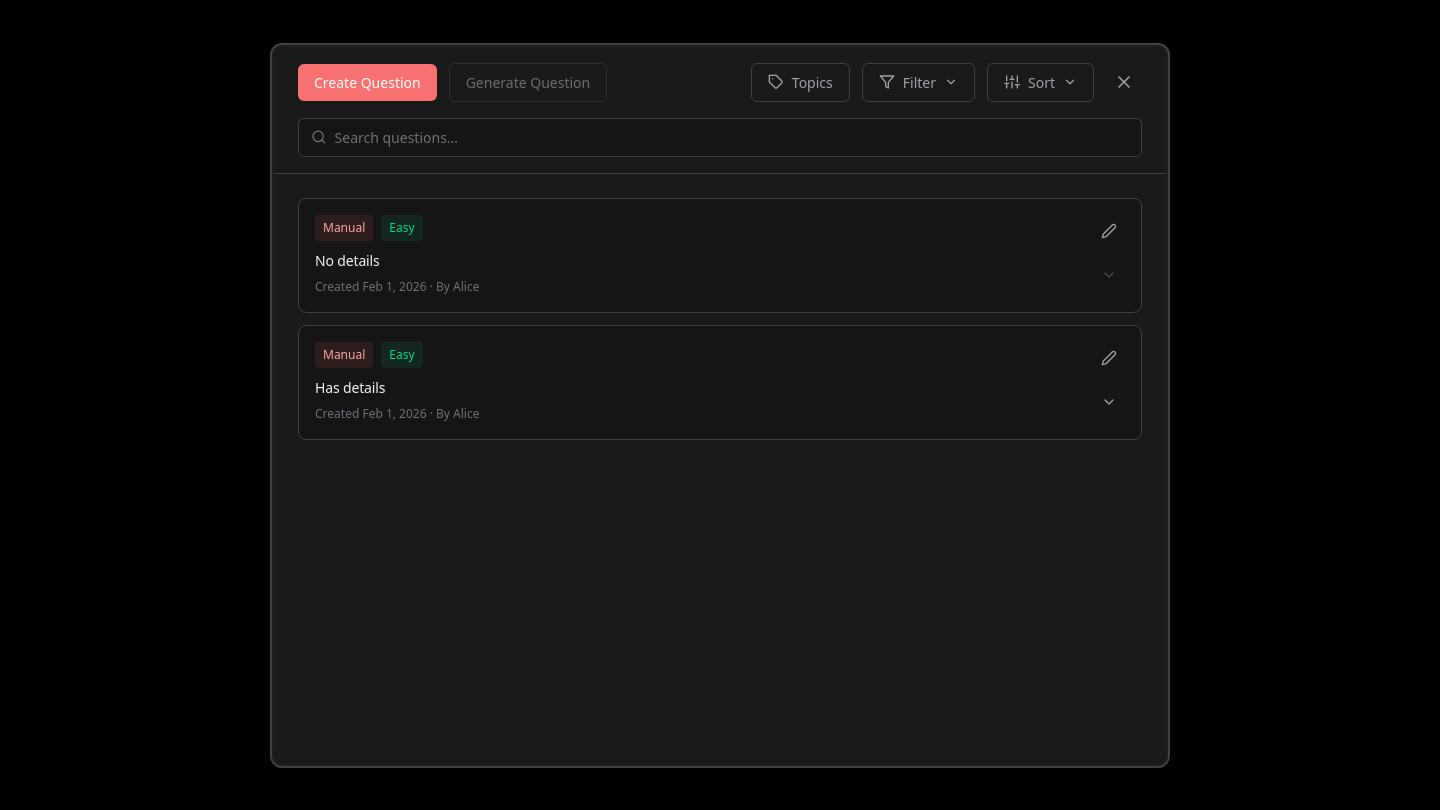
it: ManageQuestionsModal › Expand button is disabled when a question has no choices; enabled when it has choices
Expected: the button named "Expand" in the row of "No details" is disabled, x1=1093 y1=258 x2=1125 y2=290
Click the button named "Expand" in the row of "Has details" at (1109, 402), box x1=1093 y1=386 x2=1125 y2=418
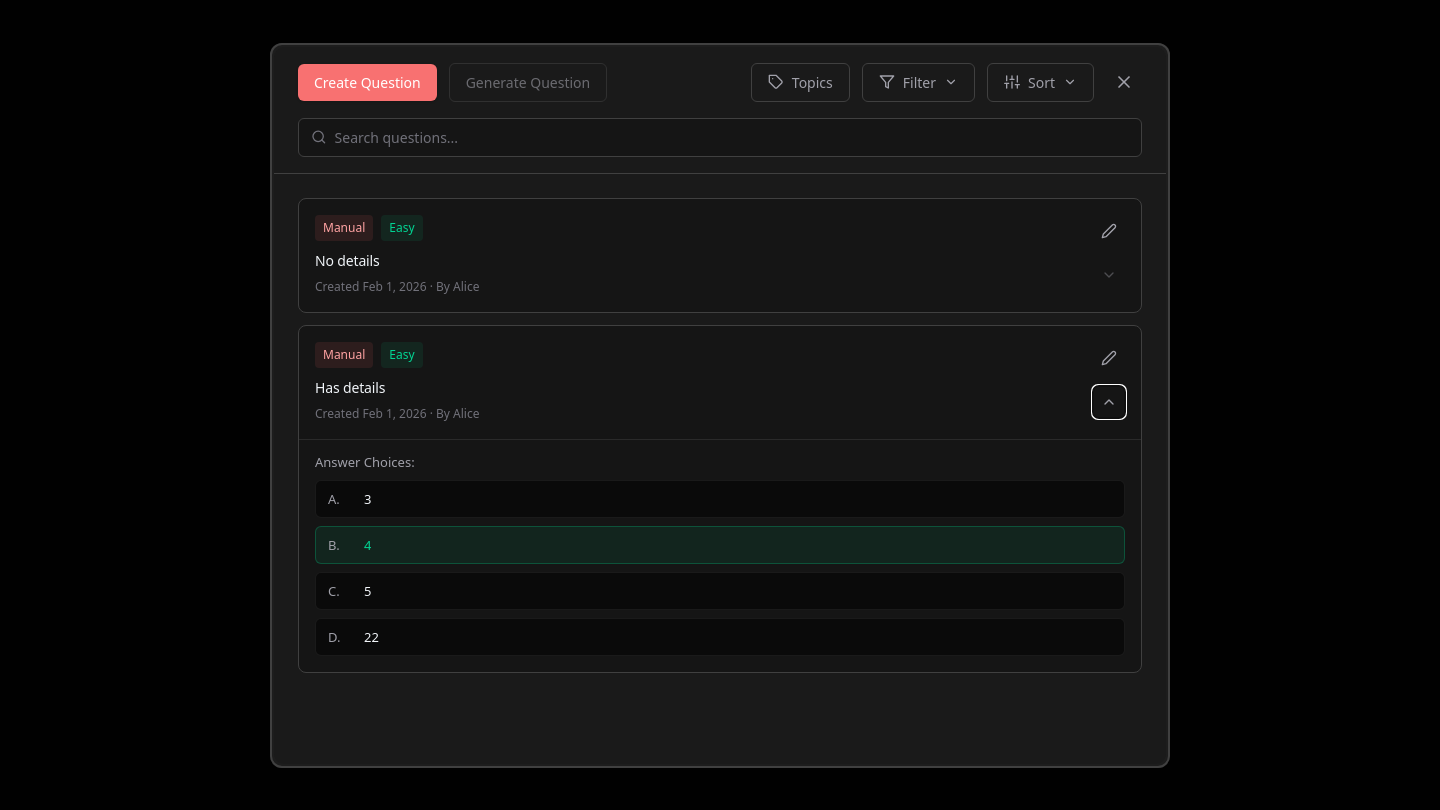
Expected: the text "Answer Choices:" is shown, x1=315 y1=452 x2=415 y2=470
Expected: the text "B." is shown, x1=328 y1=536 x2=340 y2=554
Expected: the text "4" is shown, x1=364 y1=534 x2=371 y2=554
Click the button named "Collapse" at (1109, 402), box x1=1093 y1=386 x2=1125 y2=418
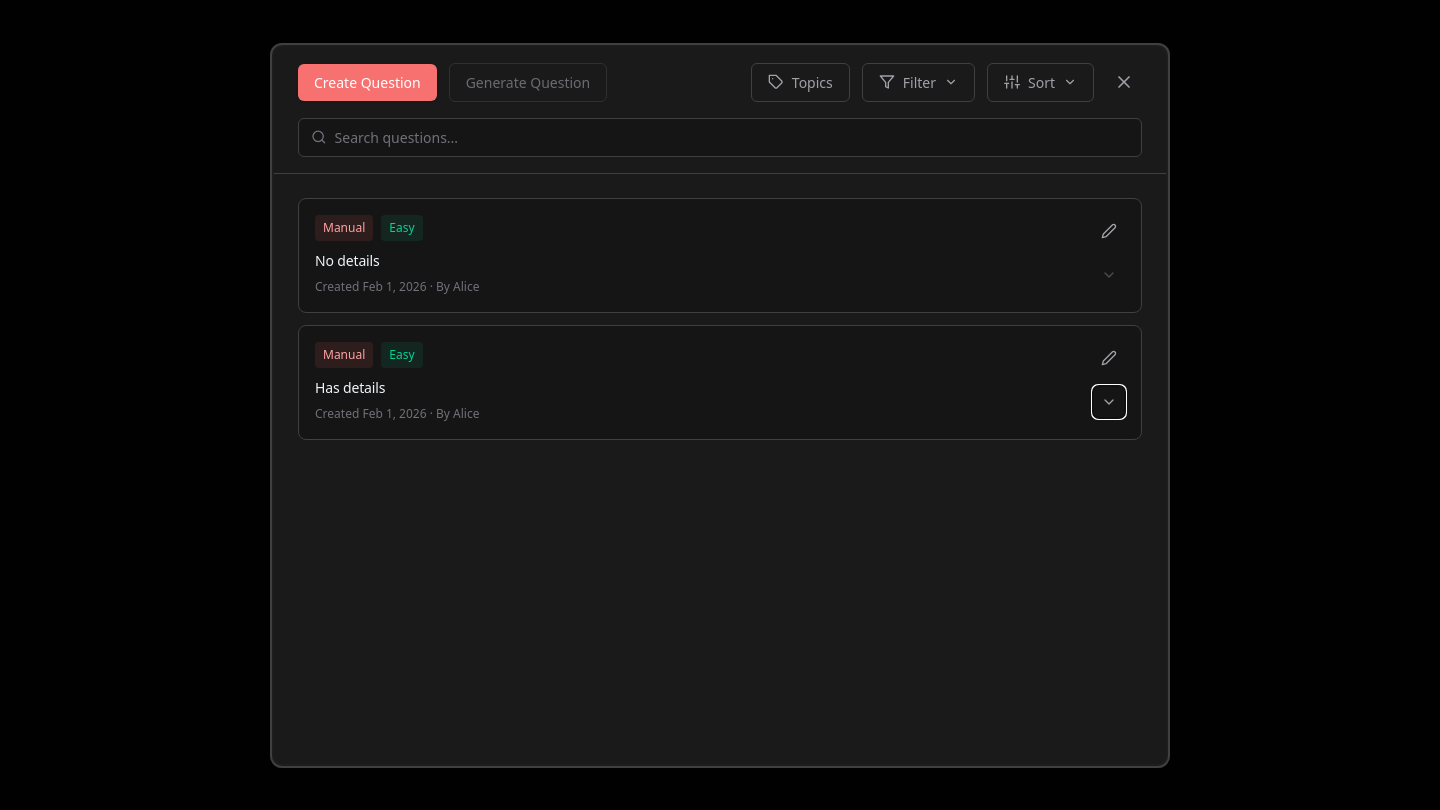
Expected: the text "Answer Choices:" is gone
